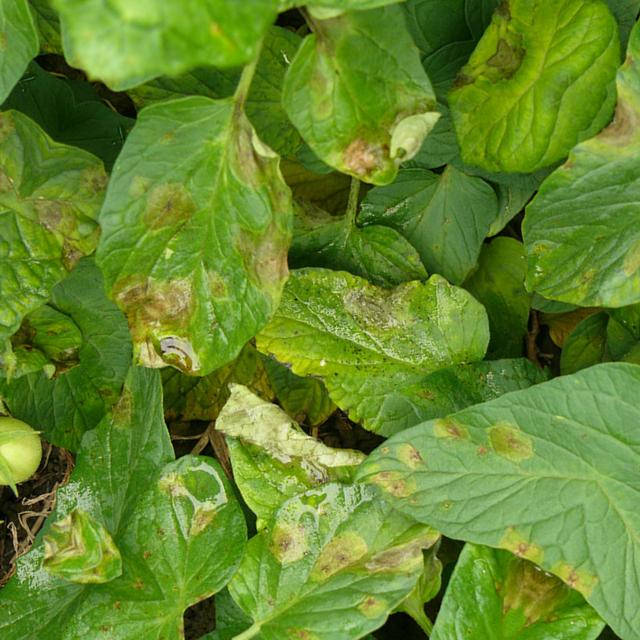Tomato leaf late blight: (297, 189, 640, 612), (18, 55, 369, 415), (206, 210, 529, 508), (214, 0, 512, 231), (190, 417, 473, 640), (472, 96, 640, 374), (401, 33, 626, 233), (95, 428, 292, 630), (35, 480, 166, 586)
